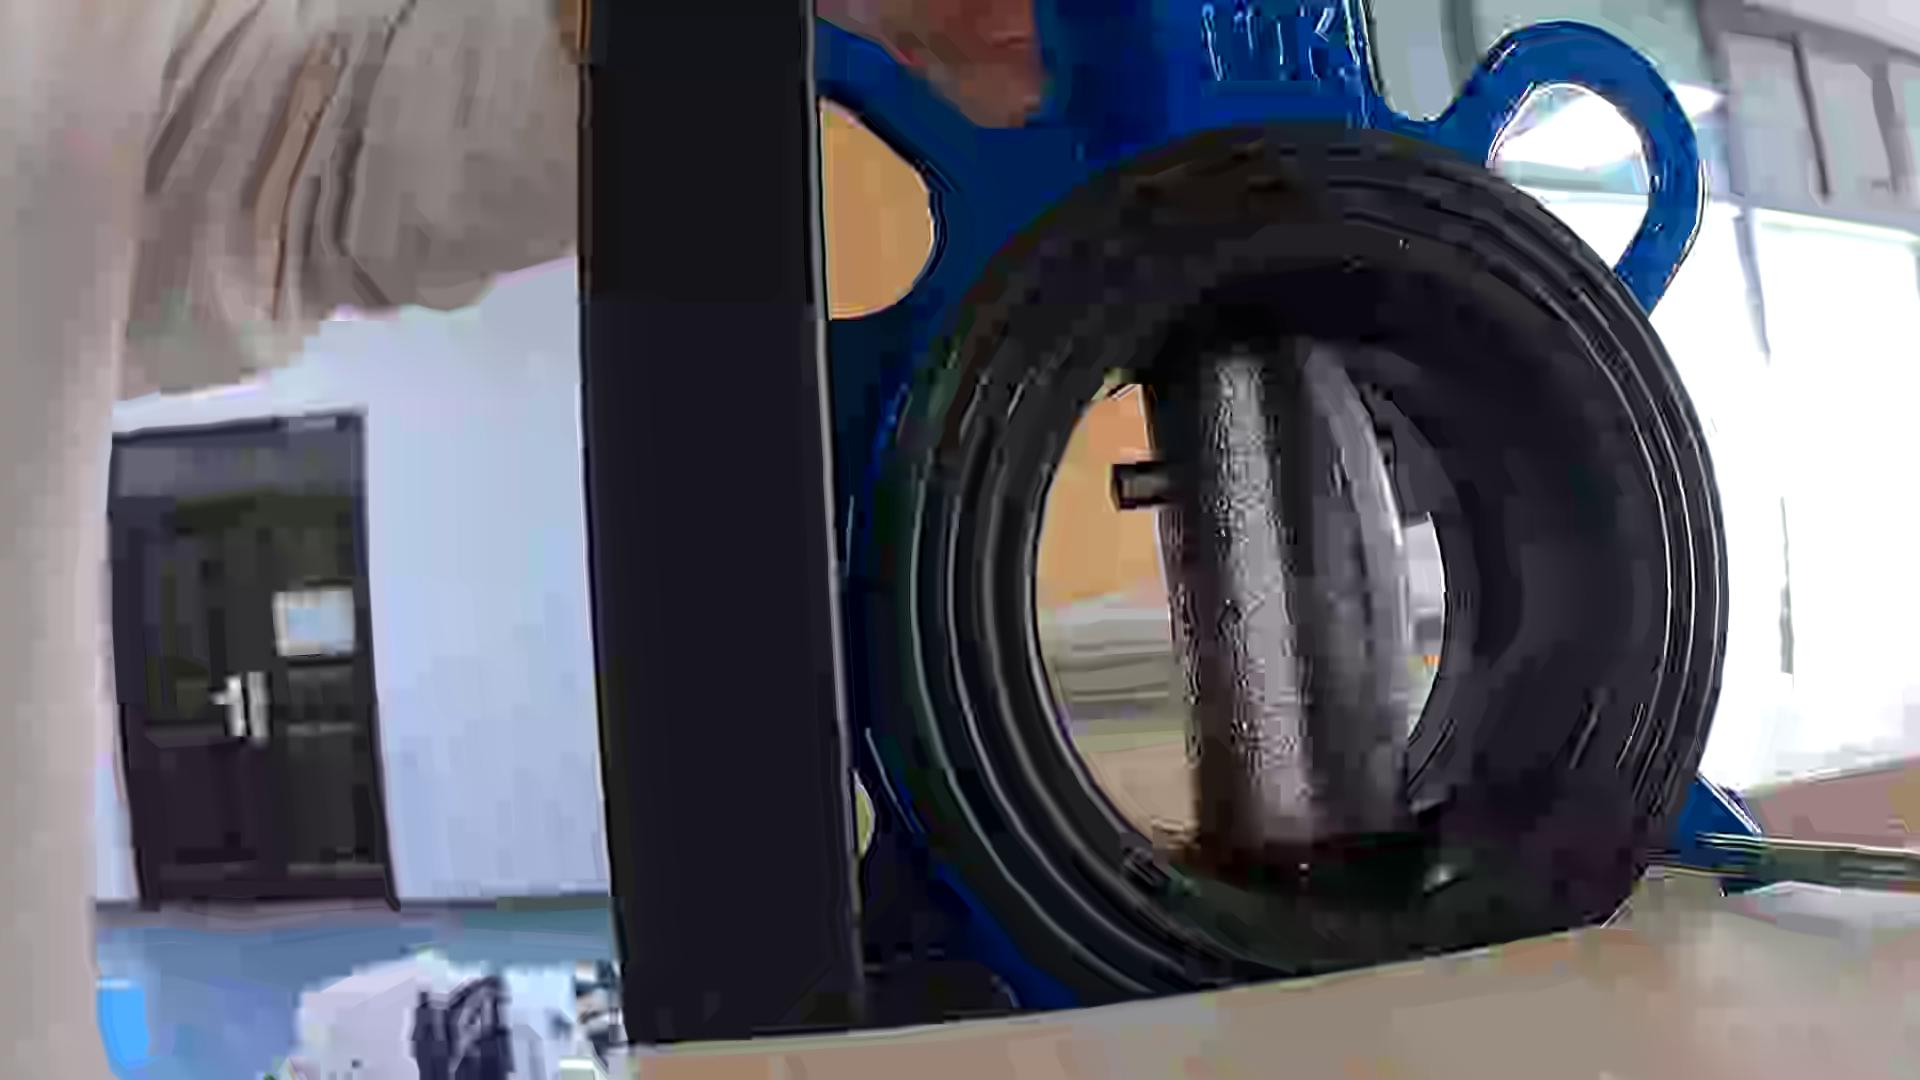empty: (1036, 350, 1476, 850)
valve: (1112, 338, 1412, 859)
